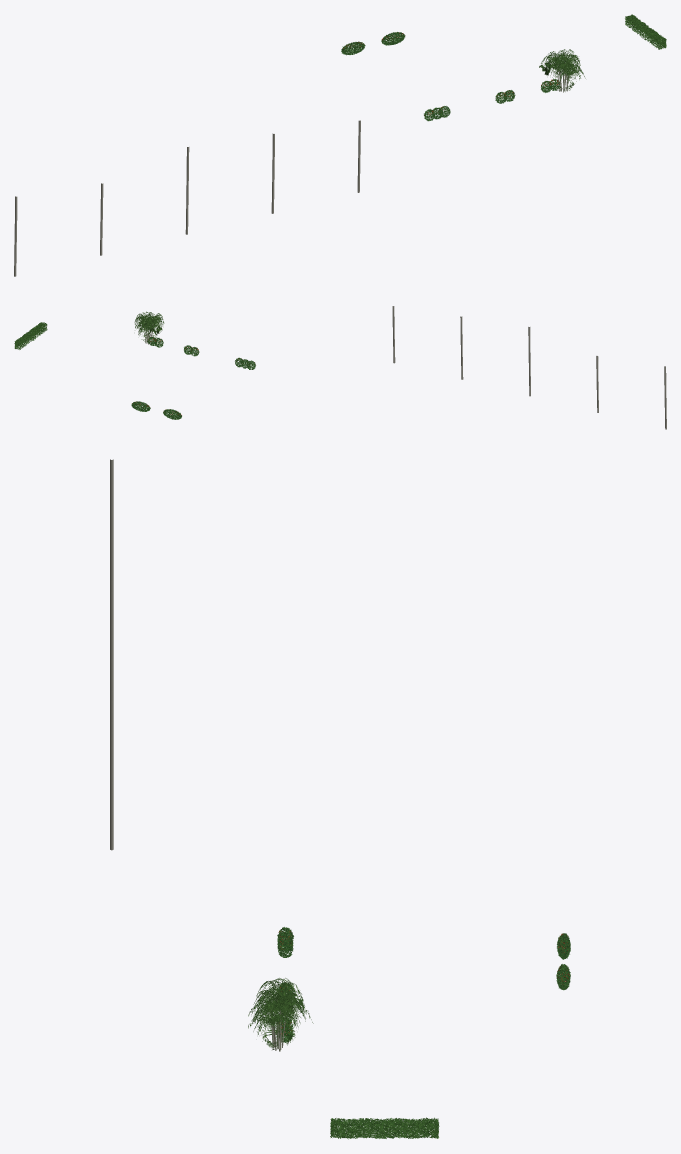
Rendered from vegetacion.glb.
The picture shows the model from 3 angles, top to bottom: view 1: azimuth 30°, elevation 25°; view 2: azimuth 150°, elevation 25°; view 3: azimuth 270°, elevation 25°; orthographic projection. The views are drawn at different scales.
Parts seen in each view (by area): view 1: V016 royal palm grey stem, V015 palm leaflet 3, Live hedge leaf 2, Live hedge leaf 0, Live hedge leaf 5; view 2: V016 royal palm grey stem, V015 palm leaflet 3, Live hedge leaf 1, Live hedge leaf 2, Live hedge leaf 0, Live hedge leaf 5, Live hedge leaf 4, Live hedge leaf 3; view 3: V016 royal palm grey stem, V015 palm leaflet 3.
Part boxes in pixels (x1=…): V016 royal palm grey stem: x1=14, y1=120, x2=360, y2=276; V015 palm leaflet 3: x1=541, y1=49, x2=585, y2=90; Live hedge leaf 2: x1=342, y1=32, x2=559, y2=120; Live hedge leaf 0: x1=341, y1=32, x2=559, y2=120; Live hedge leaf 5: x1=341, y1=32, x2=559, y2=121; V016 royal palm grey stem: x1=392, y1=306, x2=666, y2=429; V015 palm leaflet 3: x1=136, y1=312, x2=162, y2=341; Live hedge leaf 1: x1=132, y1=338, x2=255, y2=419; Live hedge leaf 2: x1=131, y1=338, x2=255, y2=419; Live hedge leaf 0: x1=132, y1=337, x2=255, y2=419; Live hedge leaf 5: x1=132, y1=337, x2=255, y2=419; Live hedge leaf 4: x1=133, y1=336, x2=255, y2=418; Live hedge leaf 3: x1=132, y1=337, x2=255, y2=419; V016 royal palm grey stem: x1=110, y1=459, x2=113, y2=850; V015 palm leaflet 3: x1=248, y1=978, x2=313, y2=1049.
Bounding box in the file's own units: 126 × 14.66 × 44.09.
